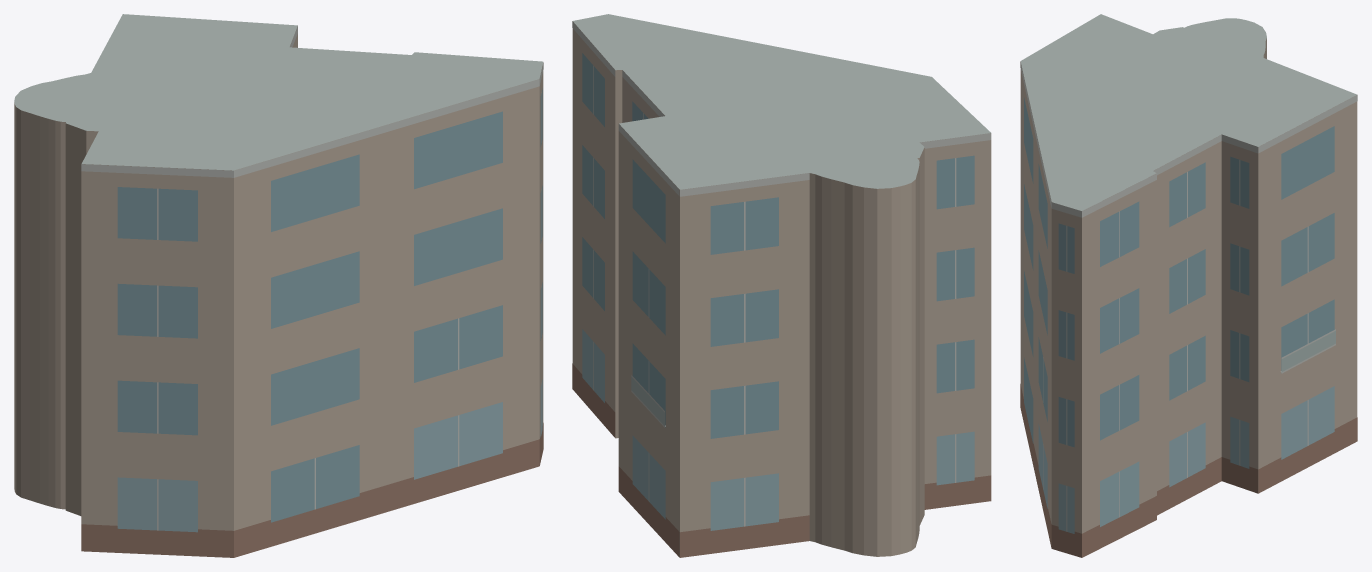
File: survey-upis-32461108.glb
3 renders of one model, left to right at view 1: azimuth 30°, elevation 25°; view 2: azimuth 150°, elevation 25°; view 3: azimuth 270°, elevation 25°, orthographic. The views are drawn at different scales.
Parts seen in each view (by area): view 1: survey-upis-32461108.tmp; view 2: survey-upis-32461108.tmp; view 3: survey-upis-32461108.tmp.
Part boxes in pixels (x1=…): survey-upis-32461108.tmp: x1=14, y1=14, x2=543, y2=557; survey-upis-32461108.tmp: x1=572, y1=14, x2=991, y2=557; survey-upis-32461108.tmp: x1=1020, y1=14, x2=1357, y2=557.
Bounding box in the file's own units: 15.62 × 12.8 × 11.28.
